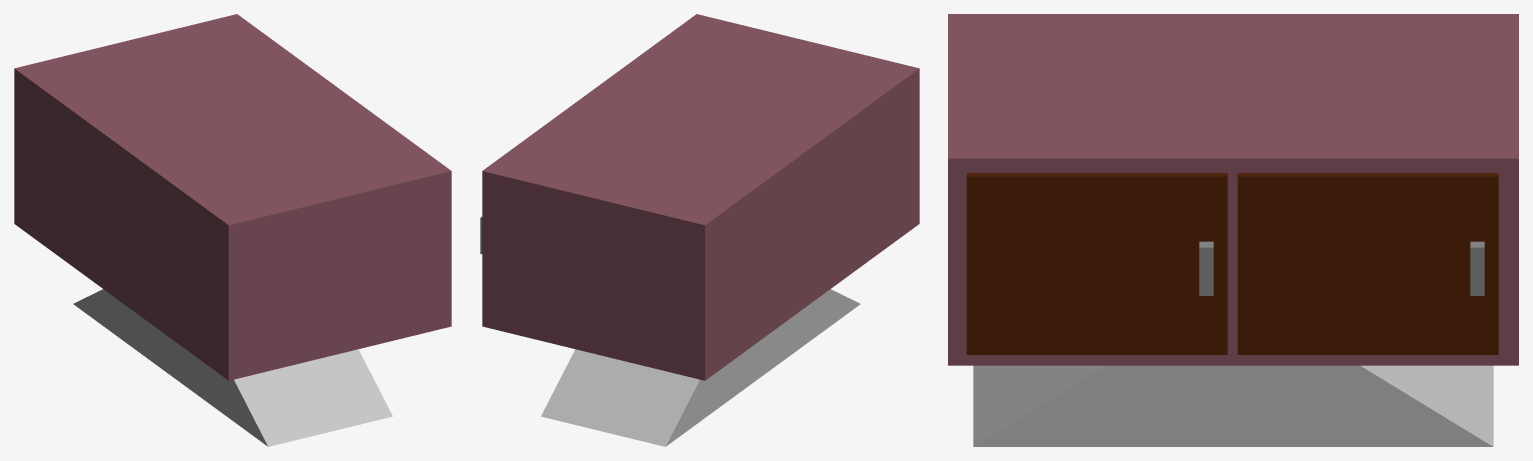
Rendered from Res01_Kitchen_HangBox7.fbx.
3 renders of one model, left to right at view 1: azimuth 30°, elevation 25°; view 2: azimuth 150°, elevation 25°; view 3: azimuth 270°, elevation 25°, orthographic. The views are drawn at different scales.
Parts seen in each view (by area): view 1: Res01_Kitchen_HangBox7; view 2: Res01_Kitchen_HangBox7; view 3: Res01_Kitchen_HangBox7.
Part boxes in pixels (x1,y1,x2,y2): Res01_Kitchen_HangBox7: [14, 14, 451, 446]; Res01_Kitchen_HangBox7: [480, 14, 919, 446]; Res01_Kitchen_HangBox7: [948, 14, 1518, 446].
Bounding box in the file's own units: 128 × 124 × 200.
